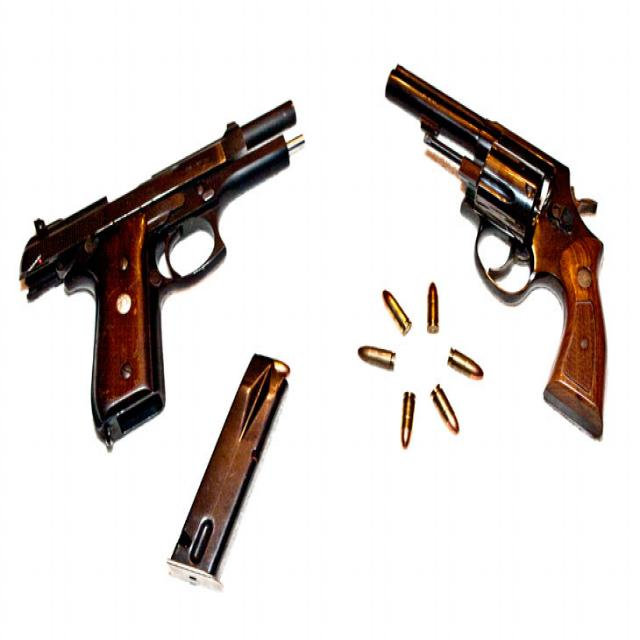gun: (22, 94, 305, 462), (384, 62, 606, 442)
